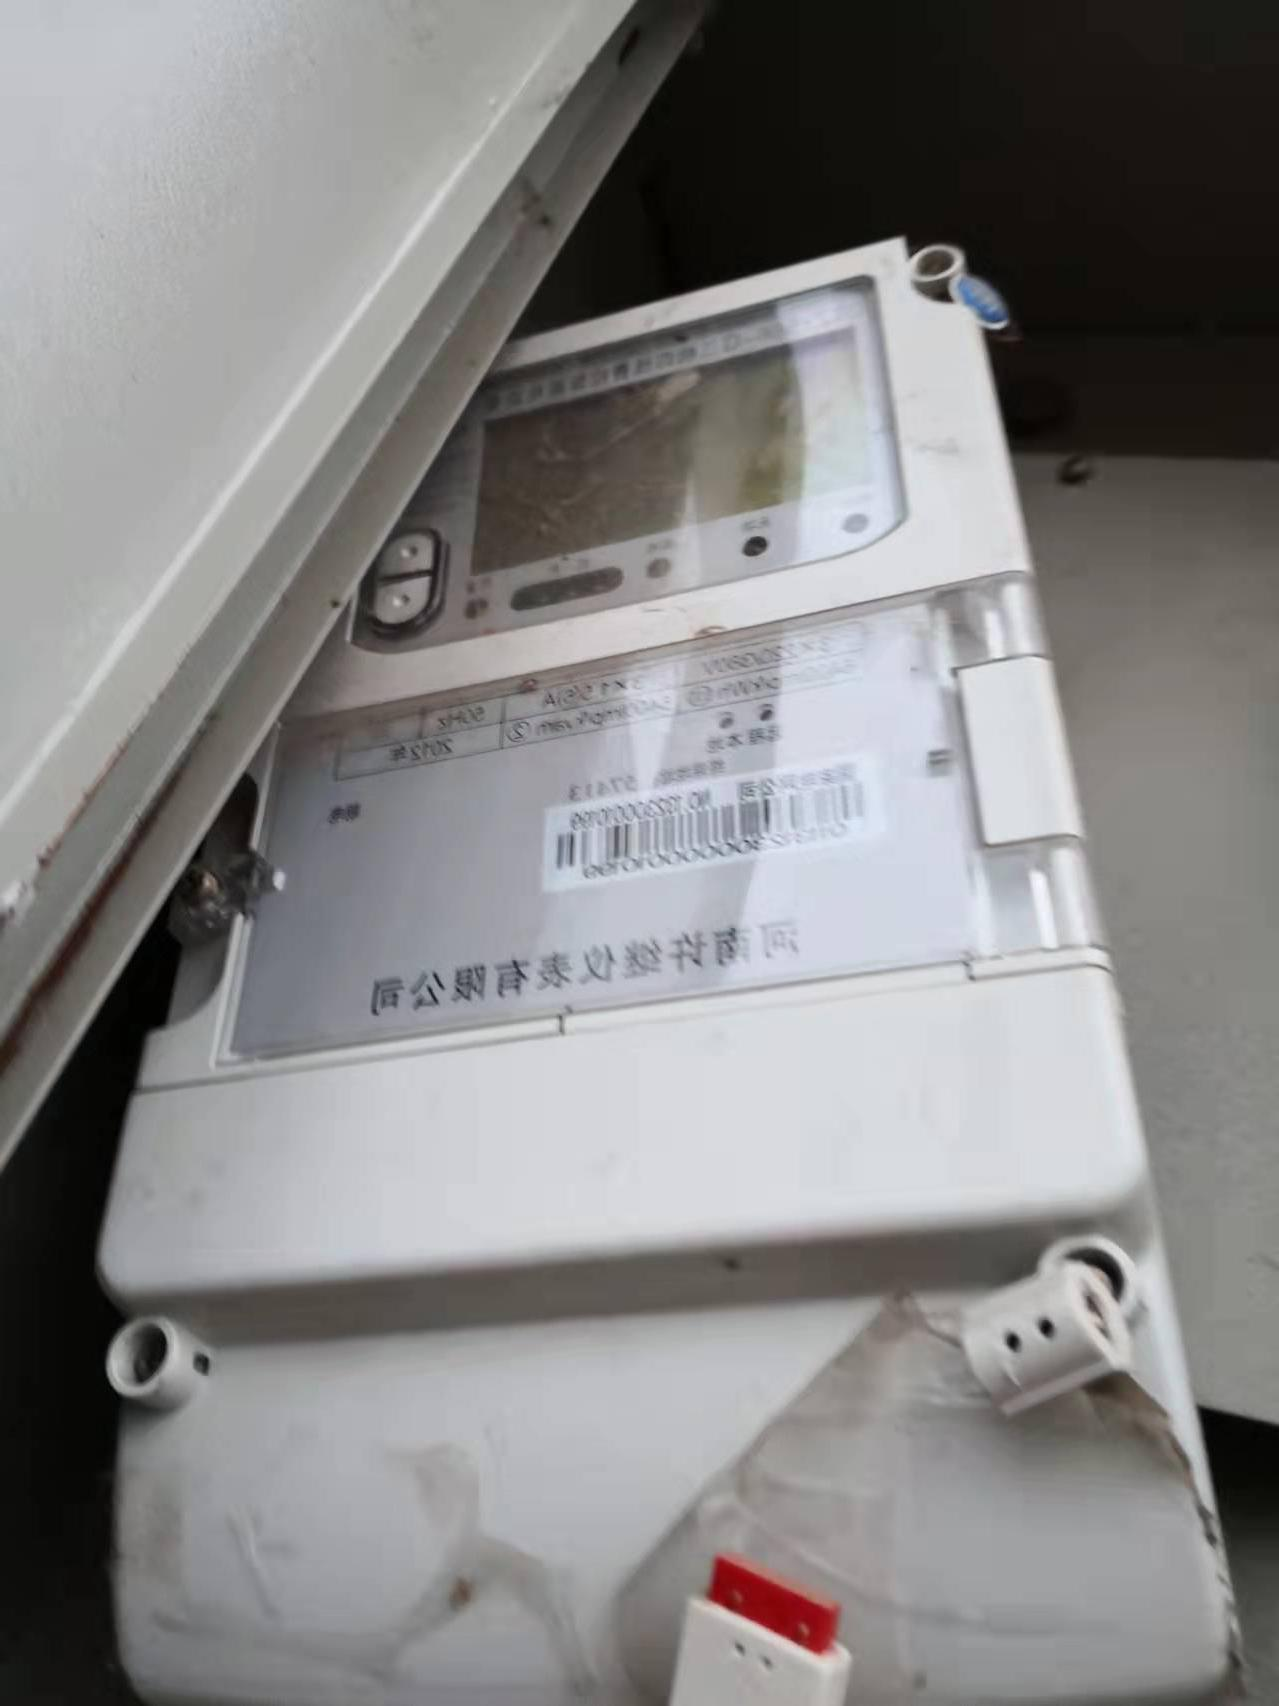digital: (102, 228, 1145, 1290)
